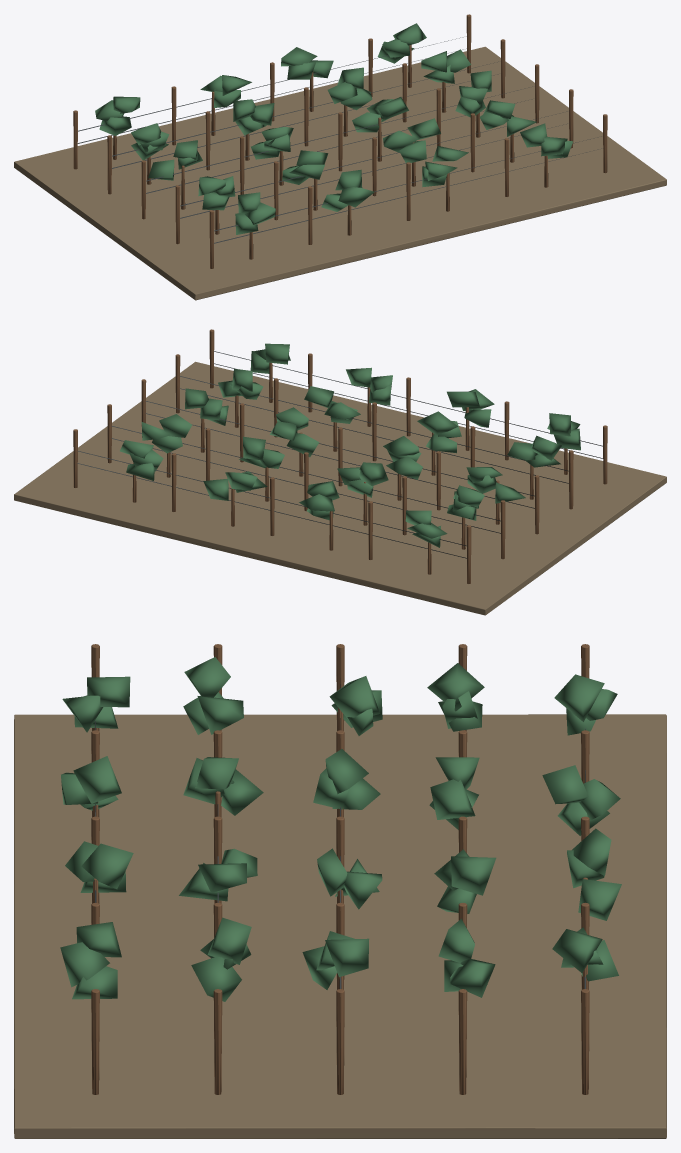
File: Prop_Vineyard_Rows_01_LOD1.fbx
3 renders of one model, top to bottom at view 1: azimuth 30°, elevation 25°; view 2: azimuth 150°, elevation 25°; view 3: azimuth 270°, elevation 25°, orthographic. The views are drawn at different scales.
Visible parts, largest first — view 1: Vineyard_Terrace, Vineyard_Leaf_0_-1.5_1, Vineyard_Leaf_1_1_0, Vineyard_Leaf_2_1_0, Vineyard_Leaf_1_1_1, Vineyard_Leaf_1_1_2, Vineyard_Leaf_4_1_2, Vineyard_Leaf_2_-4_0, Vineyard_Leaf_4_-4_0, Vineyard_Leaf_0_3.5_2, Vineyard_Leaf_3_-4_2, Vineyard_Leaf_4_3.5_2 (+2 smaller); view 2: Vineyard_Terrace, Vineyard_Leaf_1_-1.5_2, Vineyard_Leaf_3_-1.5_2, Vineyard_Leaf_3_3.5_2, Vineyard_Leaf_2_-1.5_0, Vineyard_Leaf_0_3.5_2, Vineyard_Leaf_3_1_2, Vineyard_Leaf_2_-1.5_2, Vineyard_Leaf_0_-1.5_2, Vineyard_Leaf_0_-4_2, Vineyard_Leaf_2_1_0, Vineyard_Leaf_4_1_0 (+7 smaller); view 3: Vineyard_Terrace, Vineyard_Leaf_0_1_2, Vineyard_Leaf_0_-1.5_2, Vineyard_Leaf_3_1_2, Vineyard_Leaf_3_-1.5_1, Vineyard_Leaf_4_-4_2, Vineyard_Leaf_1_3.5_0, Vineyard_Leaf_0_3.5_1, Vineyard_Leaf_2_3.5_2, Vineyard_Leaf_1_3.5_2, Vineyard_Leaf_2_-4_2, Vineyard_Leaf_3_-4_2 (+31 smaller).
Part boxes in pixels (x1,y1,x2,y2): Vineyard_Terrace: (14,46,666,300); Vineyard_Leaf_0_-1.5_1: (338,187,374,207); Vineyard_Leaf_1_1_0: (399,140,426,163); Vineyard_Leaf_2_1_0: (352,112,382,132); Vineyard_Leaf_1_1_1: (383,130,417,152); Vineyard_Leaf_1_1_2: (407,118,440,140); Vineyard_Leaf_4_1_2: (281,47,317,66); Vineyard_Leaf_2_-4_0: (148,159,174,180); Vineyard_Leaf_4_-4_0: (99,116,131,135); Vineyard_Leaf_0_3.5_2: (520,123,547,147); Vineyard_Leaf_3_-4_2: (131,123,160,145); Vineyard_Leaf_4_3.5_2: (393,23,426,45); Vineyard_Terrace: (14,361,666,615); Vineyard_Leaf_1_-1.5_2: (417,411,457,435); Vineyard_Leaf_3_-1.5_2: (359,462,388,486); Vineyard_Leaf_3_3.5_2: (159,414,191,437); Vineyard_Leaf_2_-1.5_0: (386,456,422,479); Vineyard_Leaf_0_3.5_2: (265,343,289,364); Vineyard_Leaf_3_1_2: (243,436,265,460); Vineyard_Leaf_2_-1.5_2: (383,436,419,455); Vineyard_Leaf_0_-1.5_2: (447,391,479,407); Vineyard_Leaf_0_-4_2: (549,413,570,436); Vineyard_Leaf_2_1_0: (286,433,319,457); Vineyard_Leaf_4_1_0: (203,478,228,500); Vineyard_Terrace: (14,714,666,1138); Vineyard_Leaf_0_1_2: (81,843,133,889); Vineyard_Leaf_0_-1.5_2: (73,756,121,803); Vineyard_Leaf_3_1_2: (451,856,496,895); Vineyard_Leaf_3_-1.5_1: (430,779,475,819); Vineyard_Leaf_4_-4_2: (554,674,604,721); Vineyard_Leaf_1_3.5_0: (191,956,241,1001); Vineyard_Leaf_0_3.5_1: (60,942,109,987); Vineyard_Leaf_2_3.5_2: (325,938,369,977); Vineyard_Leaf_1_3.5_2: (207,917,251,964); Vineyard_Leaf_2_-4_2: (329,676,380,721); Vineyard_Leaf_3_-4_2: (427,663,484,711).
Bounding box in the file's own units: 1199 × 164 × 800.
